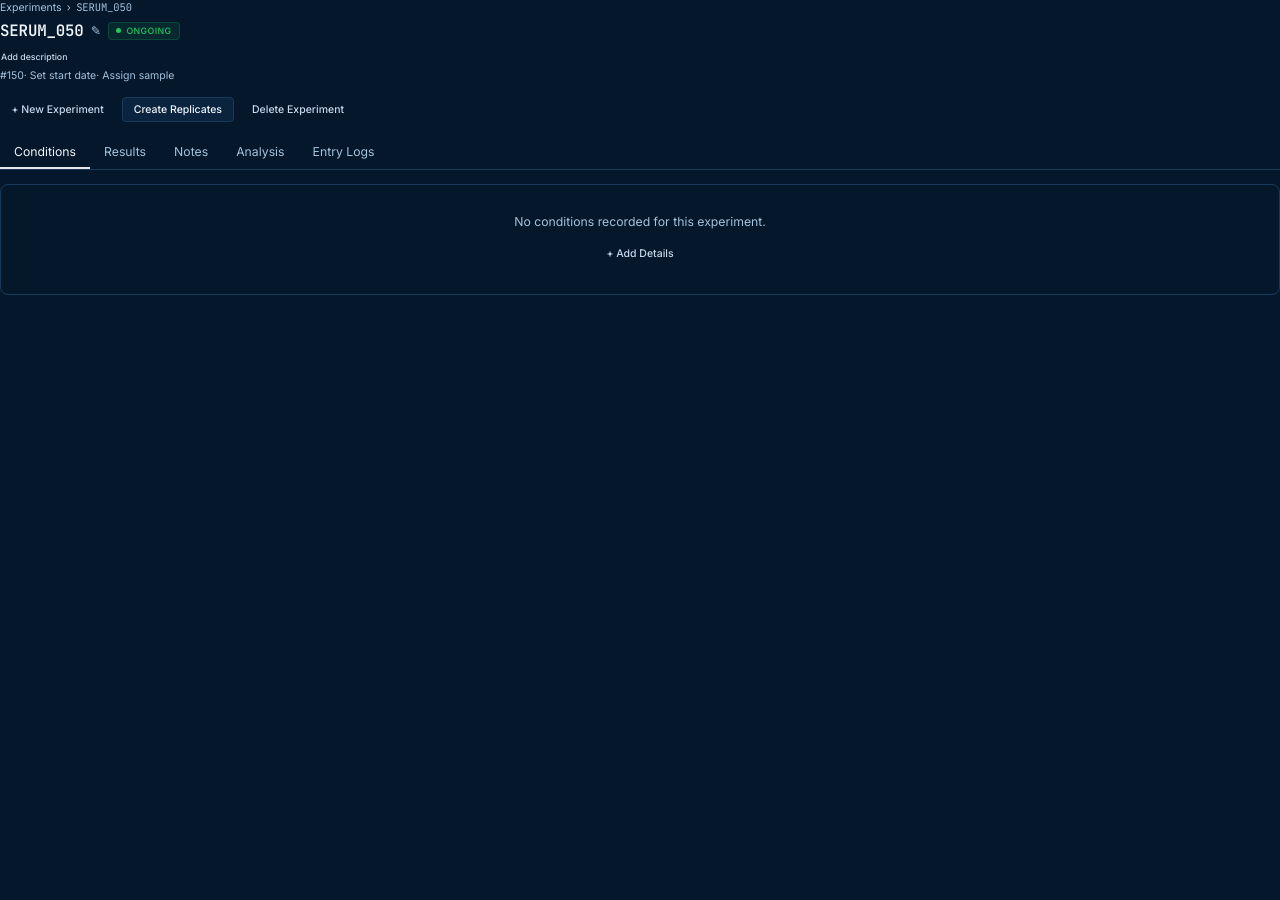
Test: experiment deletion from the detail page › deletes and navigates back to the list on success
Click the button "Delete Experiment". click: (298, 110)
box: [240,97,356,122]
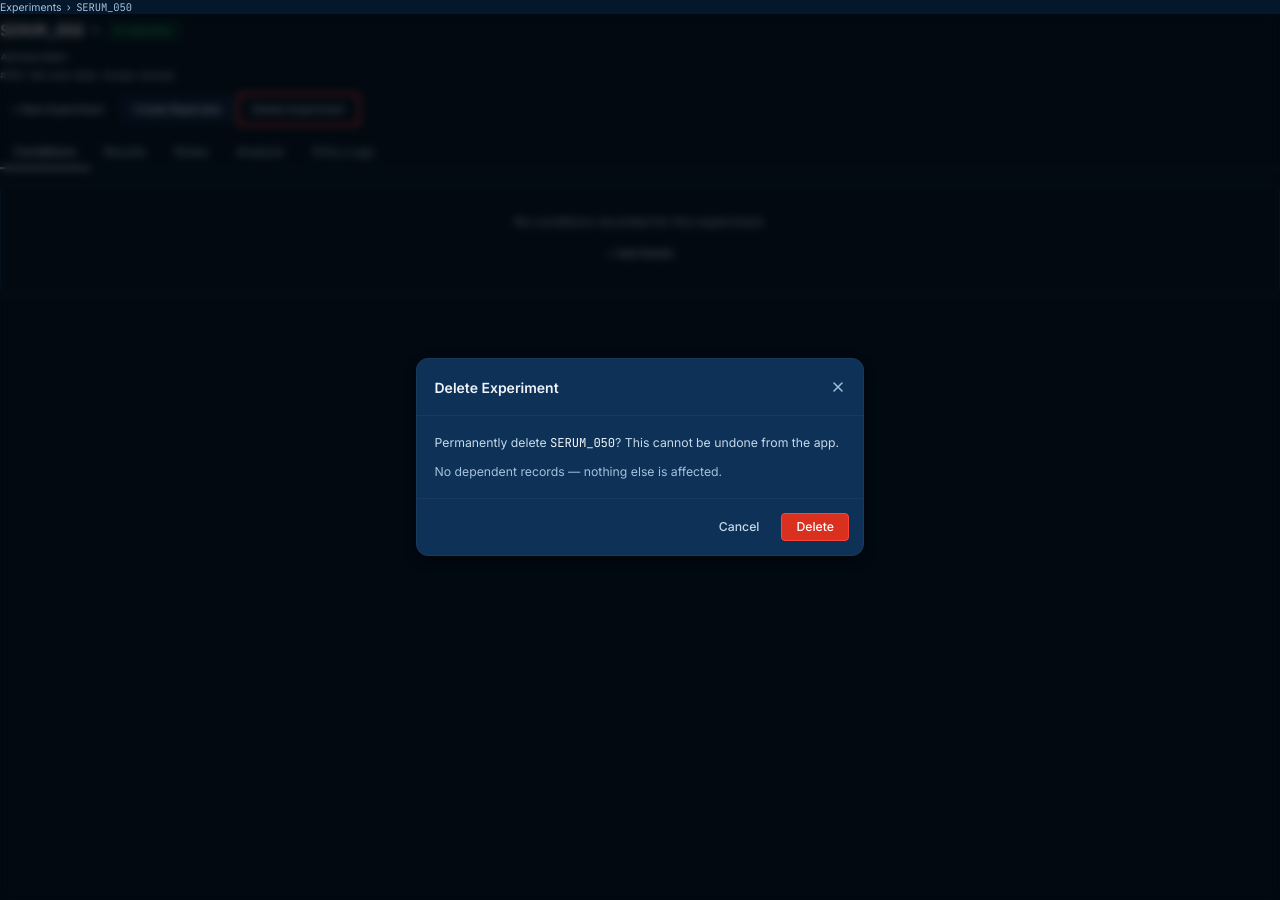
Click the button "Delete". click: (815, 527)
box: [781,513,849,541]
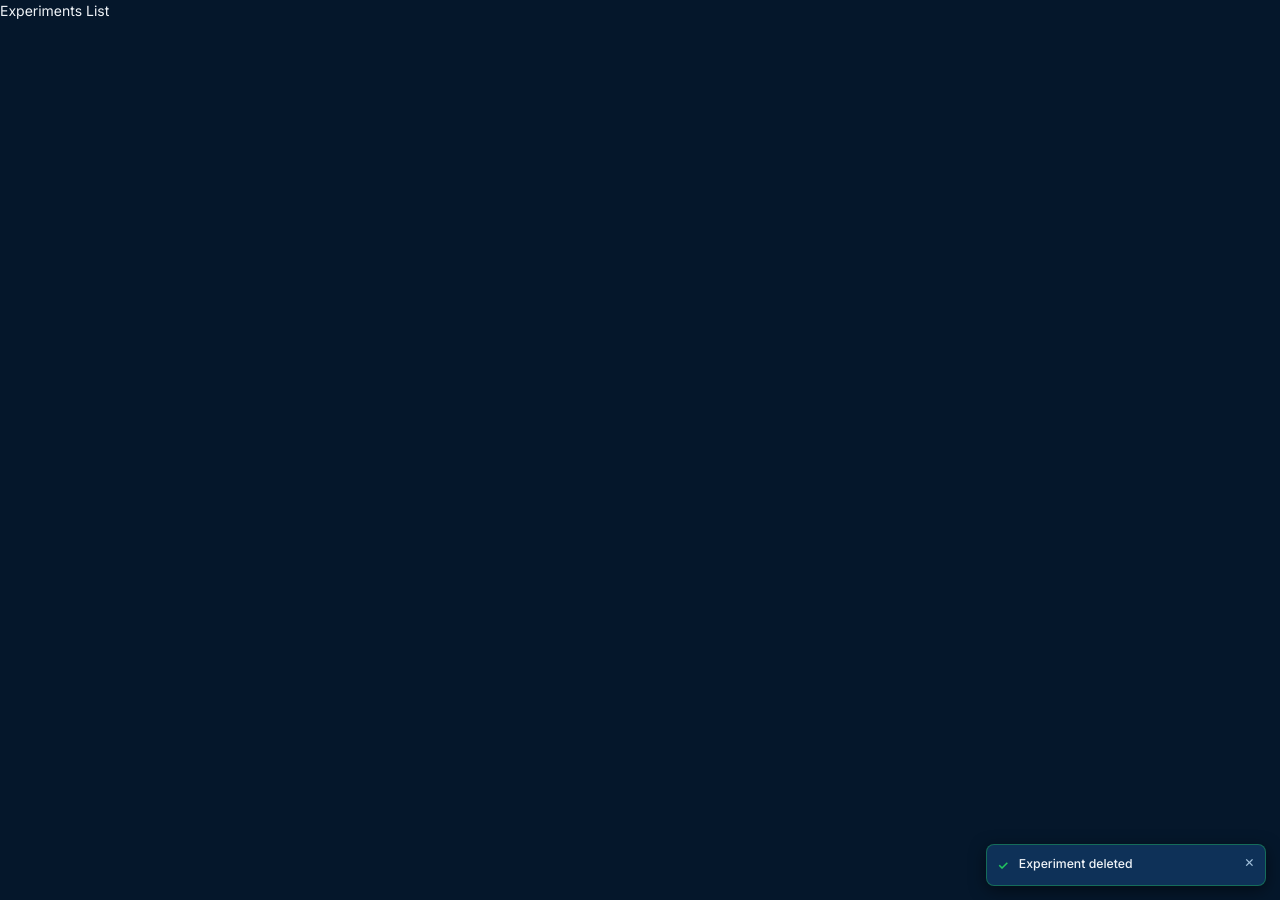
Result: the text "Experiments List" is shown at [0,2,109,19]
